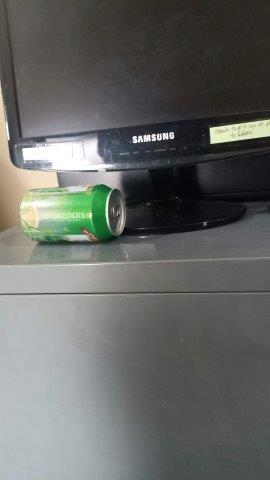kaleng: (19, 185, 127, 246)
